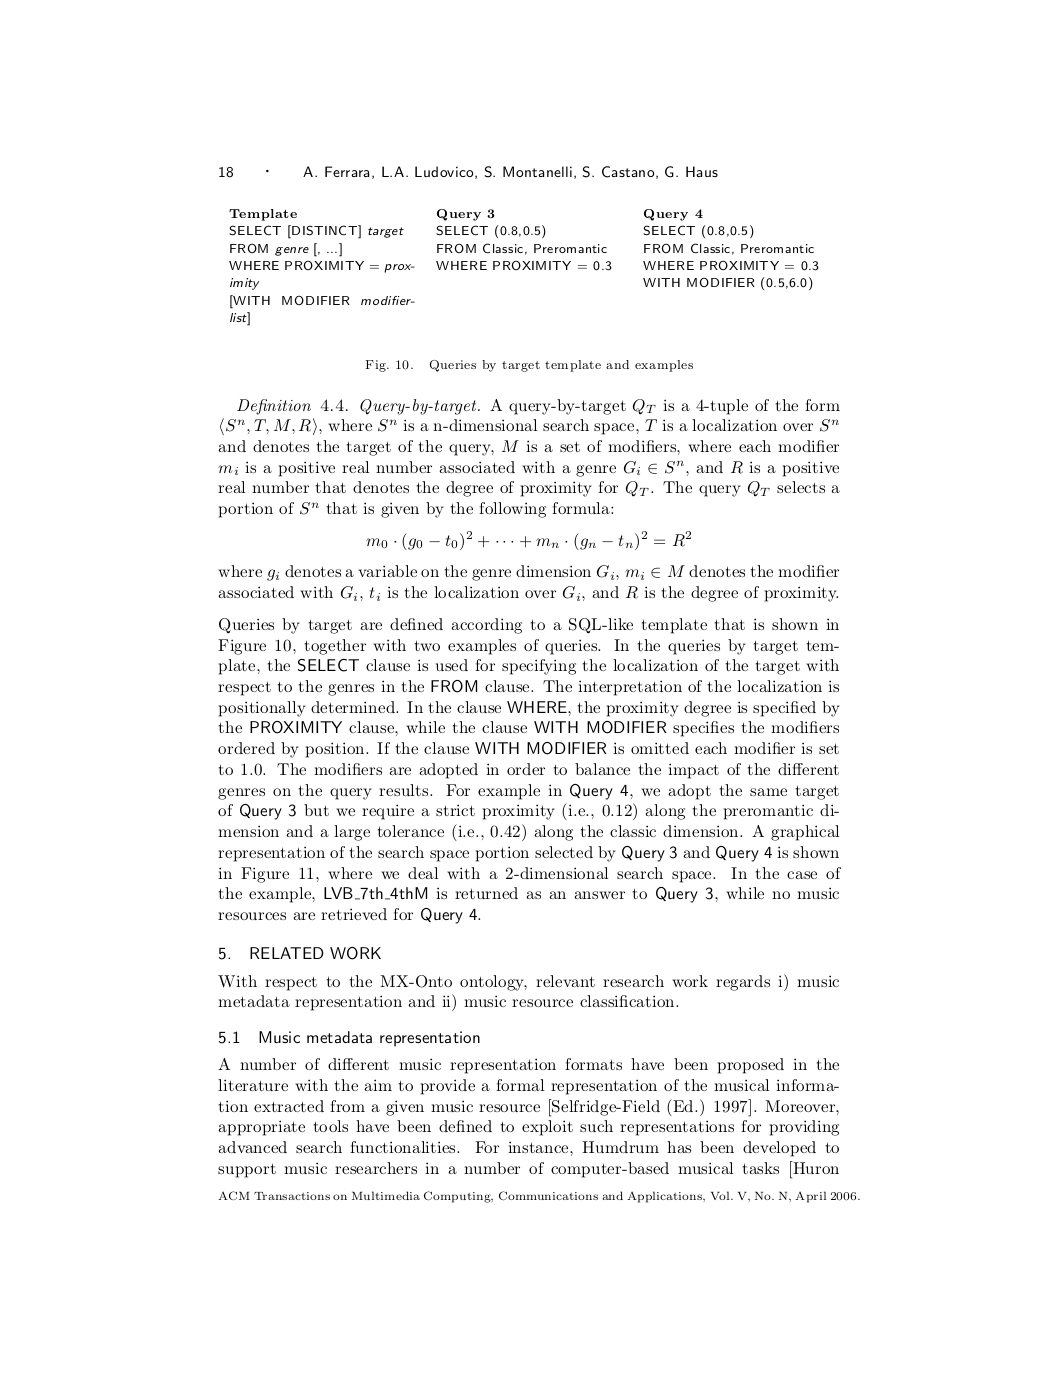Table: (228, 210, 818, 325)
formula: (366, 530, 690, 551)
